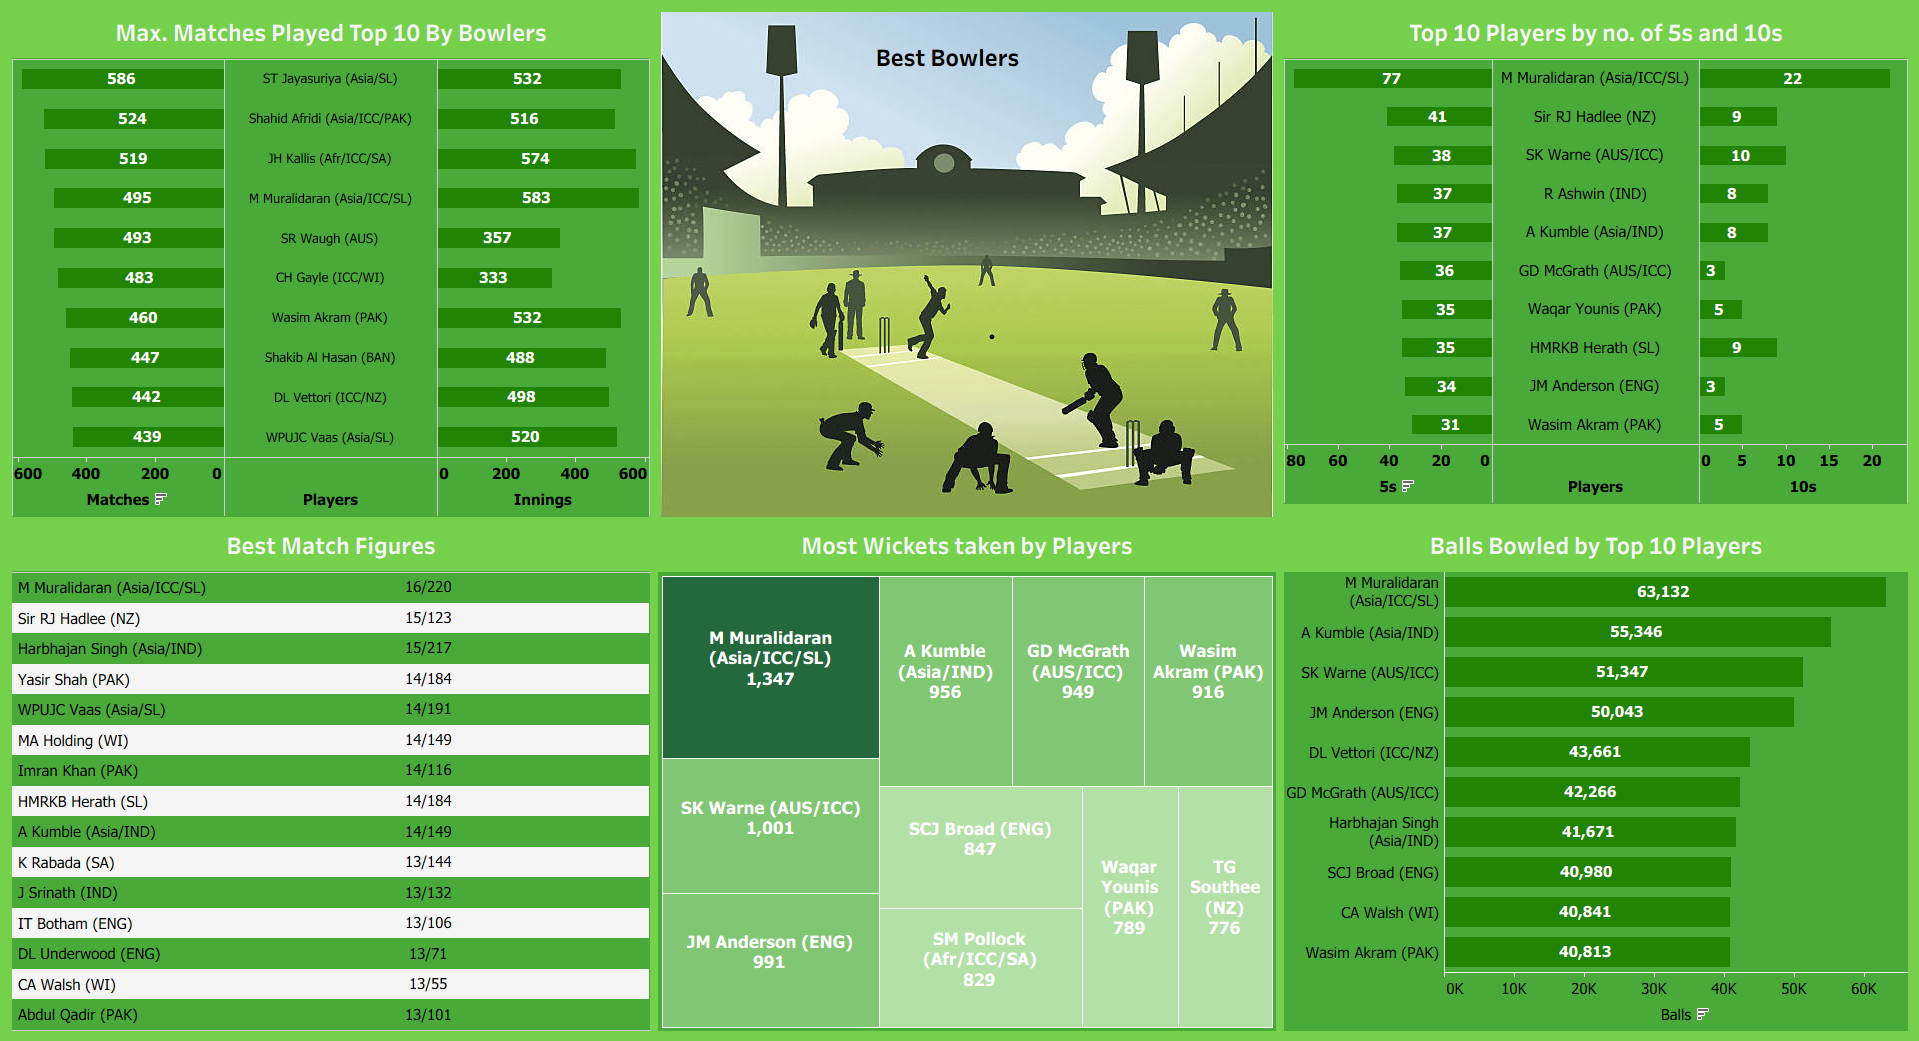

The page's visual inventory and layout, read from the dashboard file:
{"tool":"tableau","page":{"name":"Dashboard 1","canvas":[1000,1000],"units":"permille","ordinal":0},"visuals":[{"type":"worksheet","title":"Max. Matches Played Top 10 By Bowlers","mark":"Automatic","rows":["Player"],"cols":["Mat","Calculation_0157829224370177","Inns"],"box":[4.8,9.4,336.2,490.6]},{"type":"image","param":"Image/cricket stadium.jpg","box":[341,9.4,325.5,490.6]},{"type":"worksheet","title":"Top 10 Players by no. of 5s and 10s","mark":"Automatic","rows":["Player"],"cols":["5","Calculation_0157829224370177","10"],"box":[666.6,9.4,328.6,490.6]},{"type":"text","box":[423.9,32.2,139.2,44.4]},{"type":"worksheet","title":"Best Match Figures","mark":"Automatic","rows":["Player"],"box":[4.8,500,336.2,490.6]},{"type":"worksheet","title":"Most Wickets taken by Players","mark":"Automatic","box":[341,500,325.5,490.6]},{"type":"worksheet","title":"Balls Bowled by Top 10 Players","mark":"Automatic","rows":["Player"],"cols":["Balls"],"box":[666.6,500,328.6,490.6]}]}

Visuals, with their boxes on the dashboard's canvas, which has no fixed pixel size, in thousandths of its width and height (x1, y1, x2, y2). These are canvas units, not pixel positions in the 1919x1041 screenshot, which may show the page scaled, cropped or inside an application window:
"Max. Matches Played Top 10 By Bowlers" worksheet: rect(5, 9, 341, 500)
image: rect(341, 9, 666, 500)
"Top 10 Players by no. of 5s and 10s" worksheet: rect(667, 9, 995, 500)
text: rect(424, 32, 563, 77)
"Best Match Figures" worksheet: rect(5, 500, 341, 991)
"Most Wickets taken by Players" worksheet: rect(341, 500, 666, 991)
"Balls Bowled by Top 10 Players" worksheet: rect(667, 500, 995, 991)
